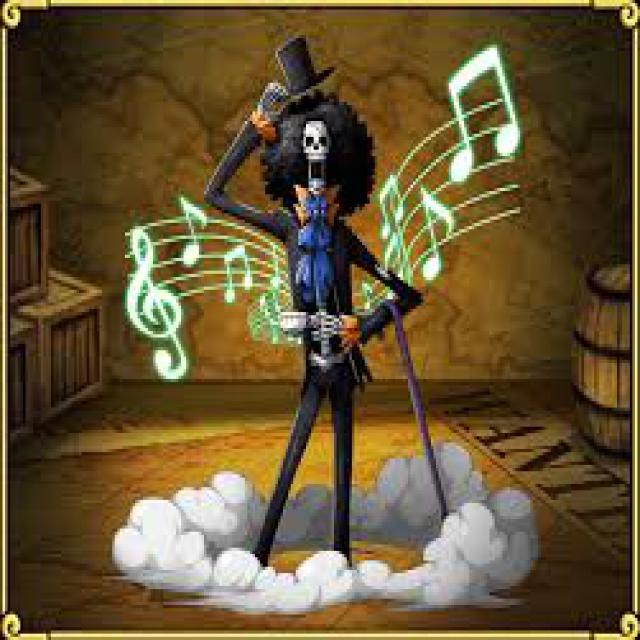Brook: (204, 38, 421, 570)
